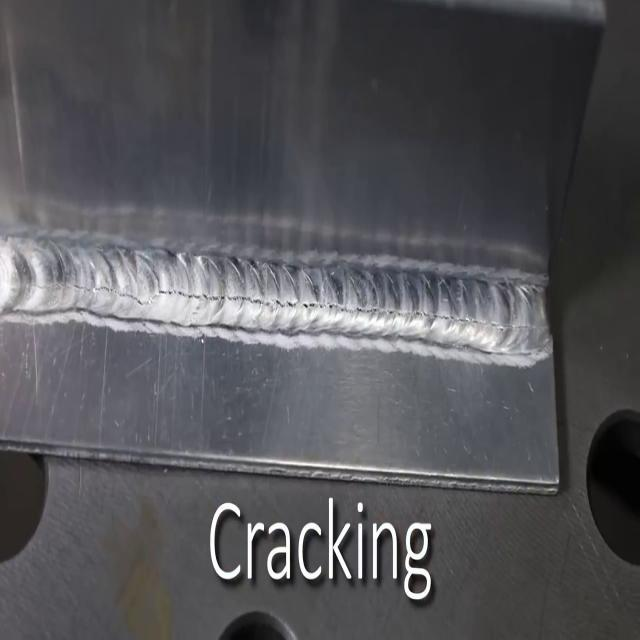Bad Welding: (0, 225, 554, 369)
Crack: (6, 270, 540, 346)
